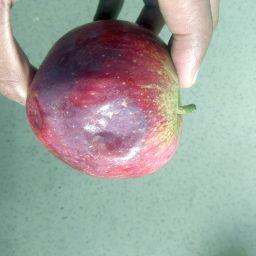apple: (13, 12, 231, 184)
